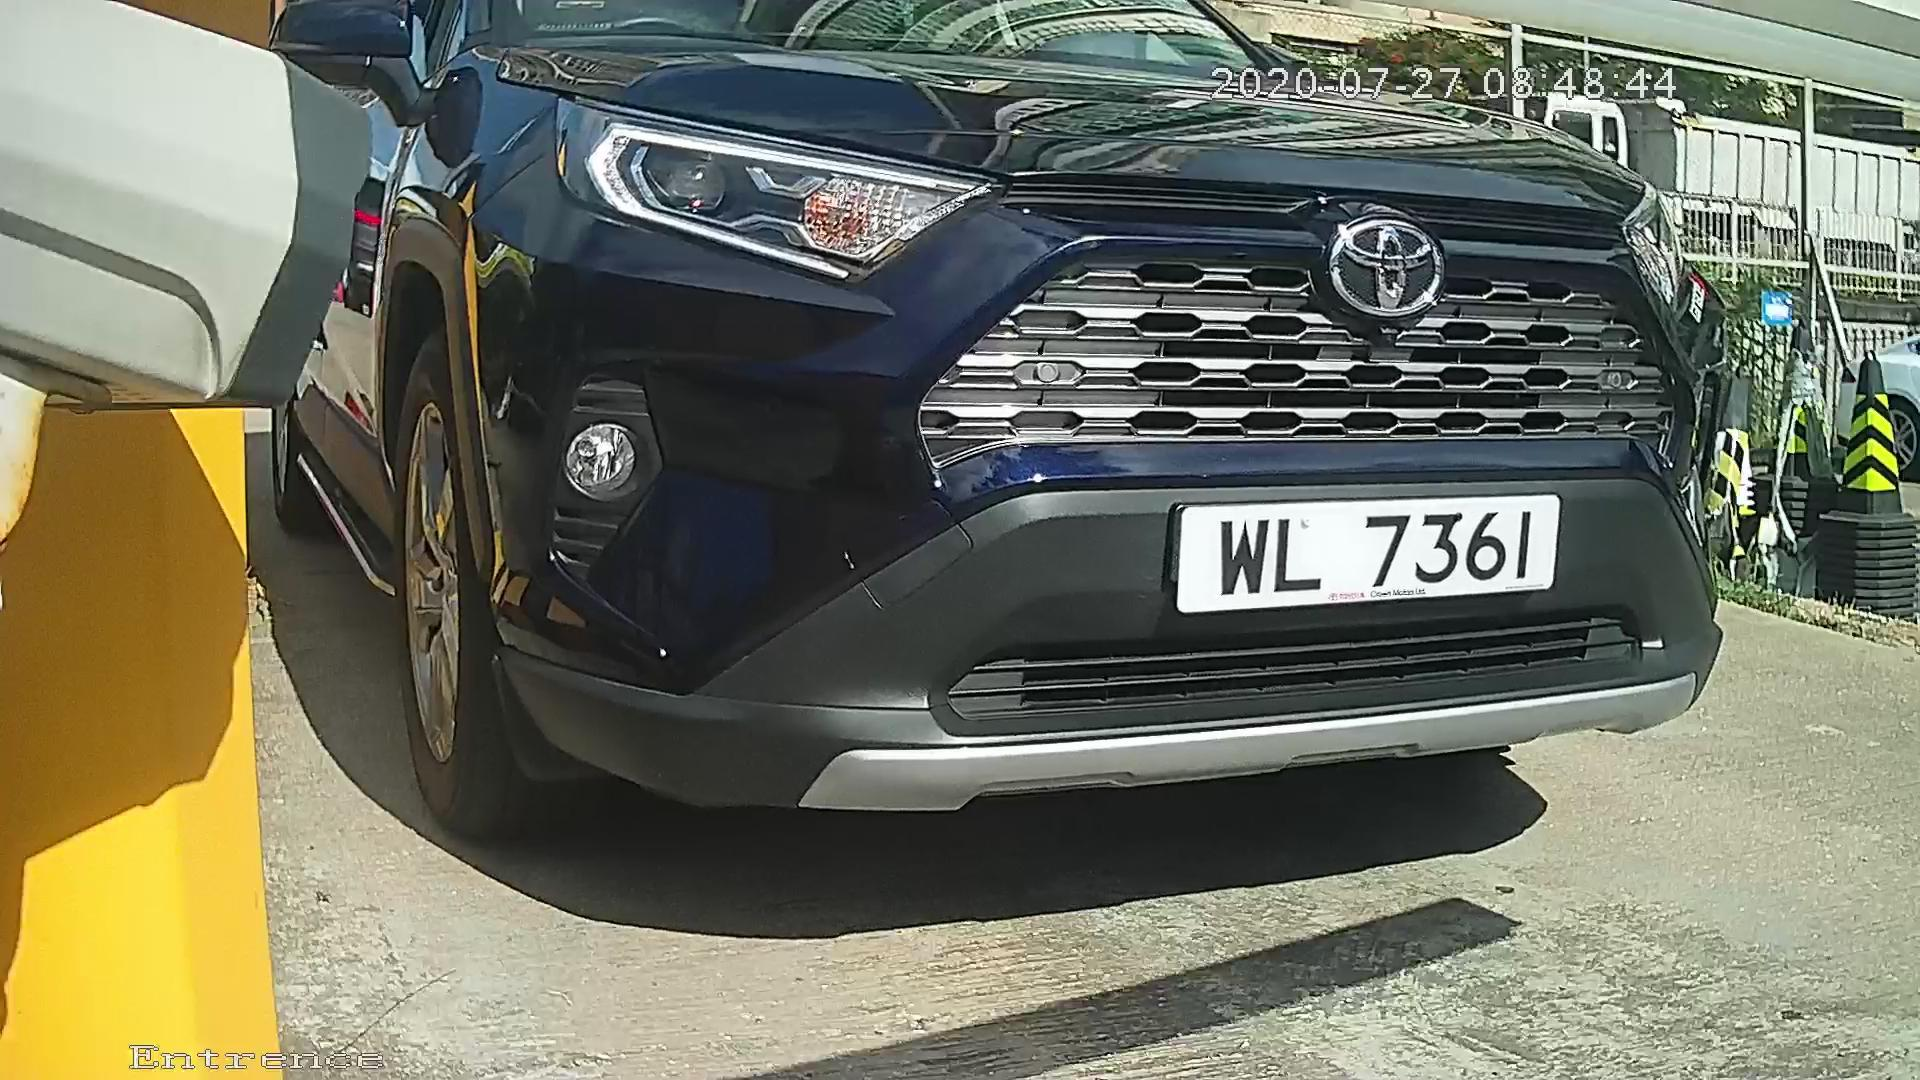Car: (121, 1, 1775, 965)
License Plate: (1166, 473, 1586, 627)
